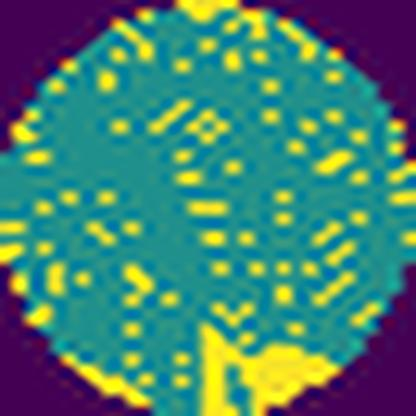Edge-Loc: (197, 315, 344, 416), (64, 347, 156, 411), (174, 0, 244, 25)
